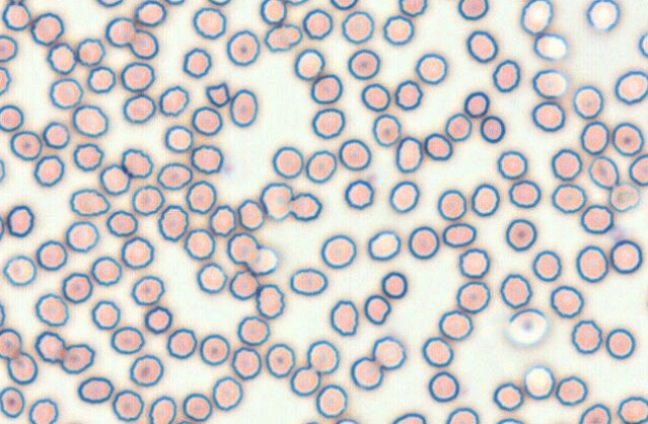RBC: (505, 307, 548, 347), (260, 181, 293, 220), (575, 245, 609, 282), (226, 29, 260, 66), (371, 335, 406, 370), (72, 103, 108, 137), (320, 234, 356, 268), (306, 339, 340, 374), (34, 293, 69, 327), (455, 280, 490, 314), (157, 204, 189, 241), (30, 12, 64, 46), (522, 364, 555, 399), (520, 0, 553, 35), (129, 354, 164, 387), (499, 273, 532, 308), (549, 285, 584, 318), (609, 239, 642, 274), (611, 121, 644, 156), (59, 342, 95, 374), (211, 375, 243, 411), (69, 188, 110, 216), (289, 267, 328, 296), (229, 88, 258, 127), (350, 356, 383, 390), (120, 236, 154, 269), (614, 70, 647, 104), (192, 6, 226, 39), (341, 10, 374, 44), (438, 309, 473, 341), (585, 0, 620, 32), (2, 254, 37, 286), (48, 77, 83, 109), (532, 68, 568, 99), (264, 23, 302, 52), (226, 232, 259, 265), (315, 384, 347, 418), (185, 180, 217, 214), (65, 220, 99, 252), (407, 225, 439, 259), (271, 145, 303, 179), (531, 100, 565, 132), (305, 149, 337, 183), (311, 107, 345, 139), (571, 319, 602, 354), (120, 61, 155, 92), (572, 84, 603, 119), (255, 283, 285, 319), (265, 342, 295, 378), (329, 299, 358, 336), (34, 330, 66, 363), (6, 351, 38, 384), (111, 389, 144, 421), (183, 227, 215, 260), (466, 30, 498, 63), (505, 218, 537, 251), (347, 48, 380, 80), (338, 138, 371, 170), (236, 315, 270, 346), (231, 346, 262, 380), (588, 155, 619, 189), (367, 229, 401, 260), (130, 275, 165, 305), (551, 183, 586, 213), (156, 161, 192, 190), (77, 376, 114, 404), (293, 48, 325, 80), (550, 148, 582, 180), (35, 239, 67, 271), (415, 52, 447, 84), (131, 184, 164, 215), (9, 130, 42, 161), (199, 333, 230, 366), (33, 154, 64, 187), (388, 180, 419, 213), (288, 191, 322, 221), (371, 113, 401, 147), (122, 93, 156, 123), (579, 121, 609, 155), (110, 325, 145, 354), (395, 136, 423, 172), (247, 244, 279, 275), (99, 163, 130, 195), (608, 181, 640, 212), (421, 336, 453, 367), (427, 371, 459, 402), (166, 327, 197, 359), (61, 272, 93, 303), (90, 255, 122, 286), (458, 247, 490, 278), (382, 14, 414, 45), (310, 73, 342, 104), (436, 188, 467, 220), (46, 41, 76, 74), (190, 144, 223, 174), (580, 204, 613, 234), (533, 32, 568, 60), (289, 365, 320, 396), (105, 16, 136, 47), (196, 262, 227, 293), (158, 85, 189, 116), (555, 375, 587, 405), (605, 327, 635, 359), (121, 148, 153, 178), (508, 179, 541, 208), (470, 183, 499, 216), (228, 269, 258, 300), (128, 28, 158, 59), (90, 299, 120, 330), (182, 47, 212, 78), (496, 149, 527, 179), (191, 106, 222, 136), (302, 8, 332, 39), (532, 249, 561, 281), (237, 198, 265, 231), (105, 209, 138, 237), (6, 204, 34, 237), (492, 59, 520, 92), (182, 392, 212, 422), (344, 179, 374, 209), (2, 0, 31, 31), (492, 382, 523, 411), (72, 142, 103, 171), (208, 204, 236, 236), (75, 37, 105, 66), (360, 82, 390, 111), (616, 395, 647, 423), (394, 79, 422, 110), (442, 222, 476, 247), (143, 305, 172, 334), (164, 124, 194, 152), (134, 0, 166, 26), (148, 395, 177, 423), (87, 65, 116, 93), (444, 112, 472, 141), (0, 386, 25, 418), (42, 121, 70, 149), (424, 132, 452, 160), (28, 397, 58, 423), (380, 271, 407, 299), (479, 115, 505, 143), (0, 327, 22, 359), (463, 91, 489, 117), (259, 0, 286, 25), (0, 104, 24, 132), (578, 403, 611, 423), (628, 153, 647, 186), (457, 0, 488, 20), (445, 406, 479, 423), (0, 34, 18, 62), (398, 0, 427, 17), (391, 412, 426, 423), (0, 66, 11, 95), (329, 0, 357, 10), (638, 31, 647, 57), (96, 0, 123, 7), (495, 417, 525, 423), (0, 301, 6, 328), (333, 417, 359, 423), (0, 158, 6, 182), (206, 0, 230, 6), (173, 419, 200, 424), (0, 214, 5, 241), (285, 0, 309, 5), (300, 419, 322, 424), (164, 0, 185, 5), (645, 283, 648, 313)
Schistocyte: (365, 294, 391, 325), (205, 81, 231, 107)
